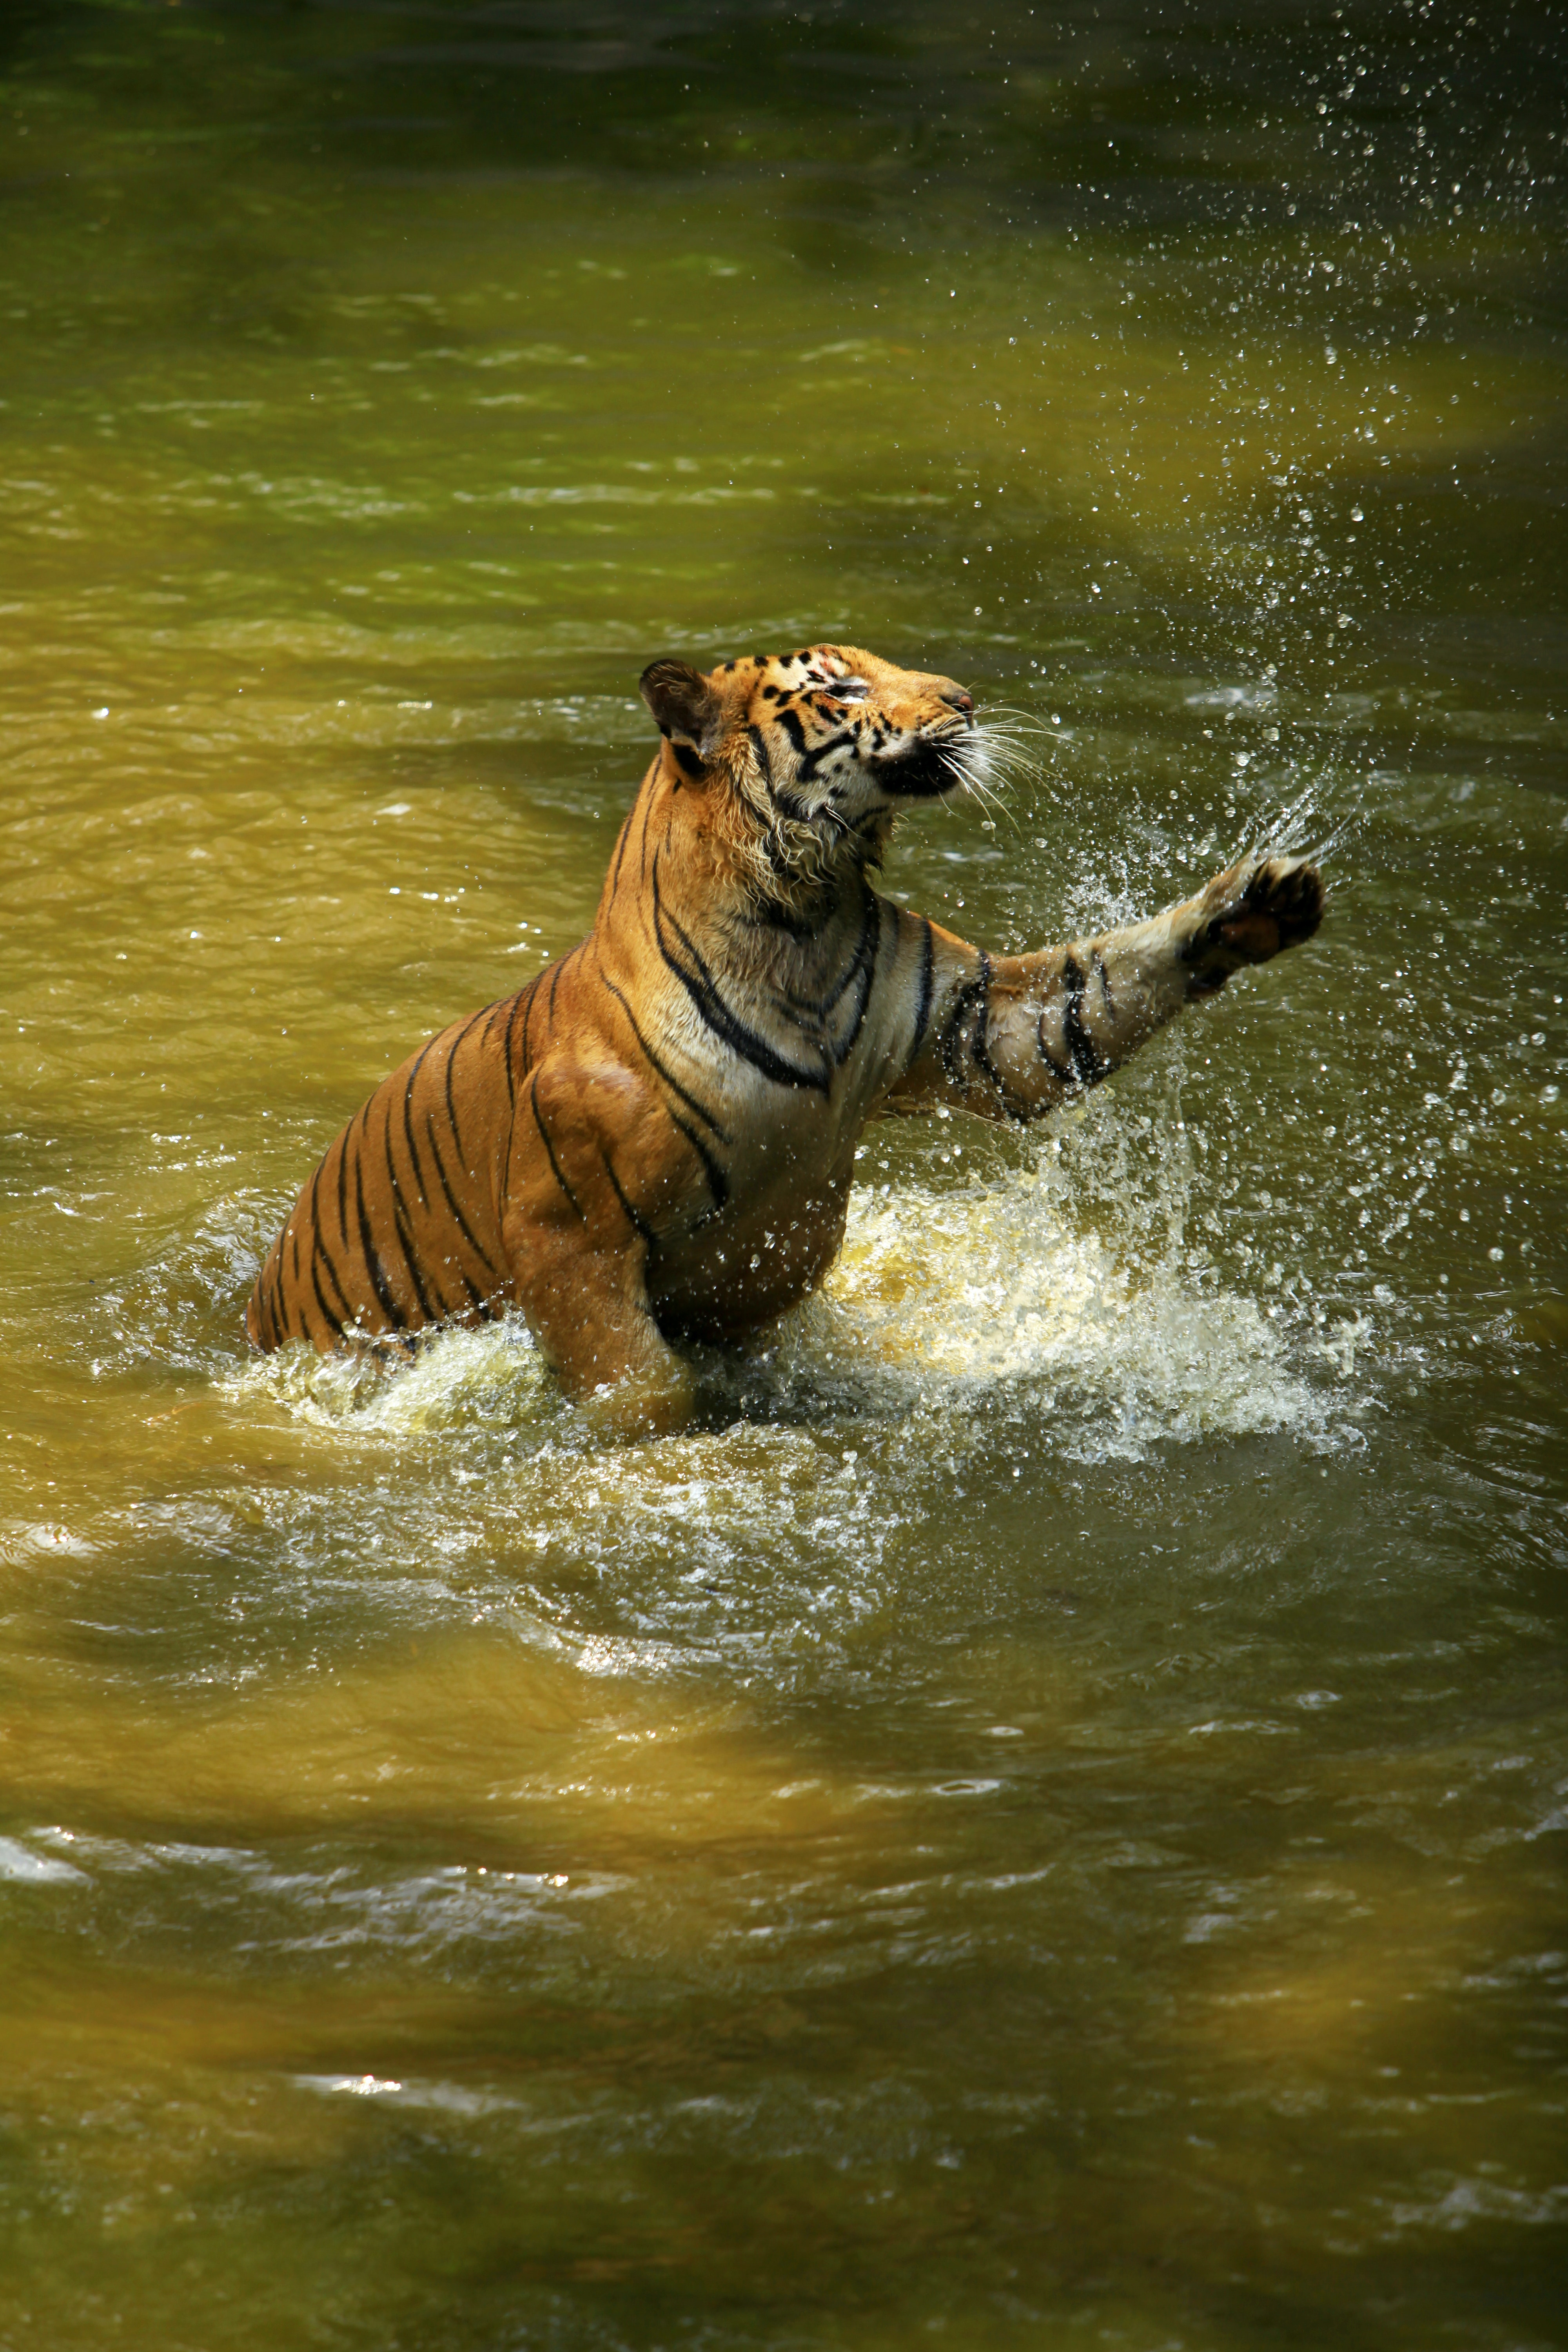tiger: (207, 546, 1358, 1519)
